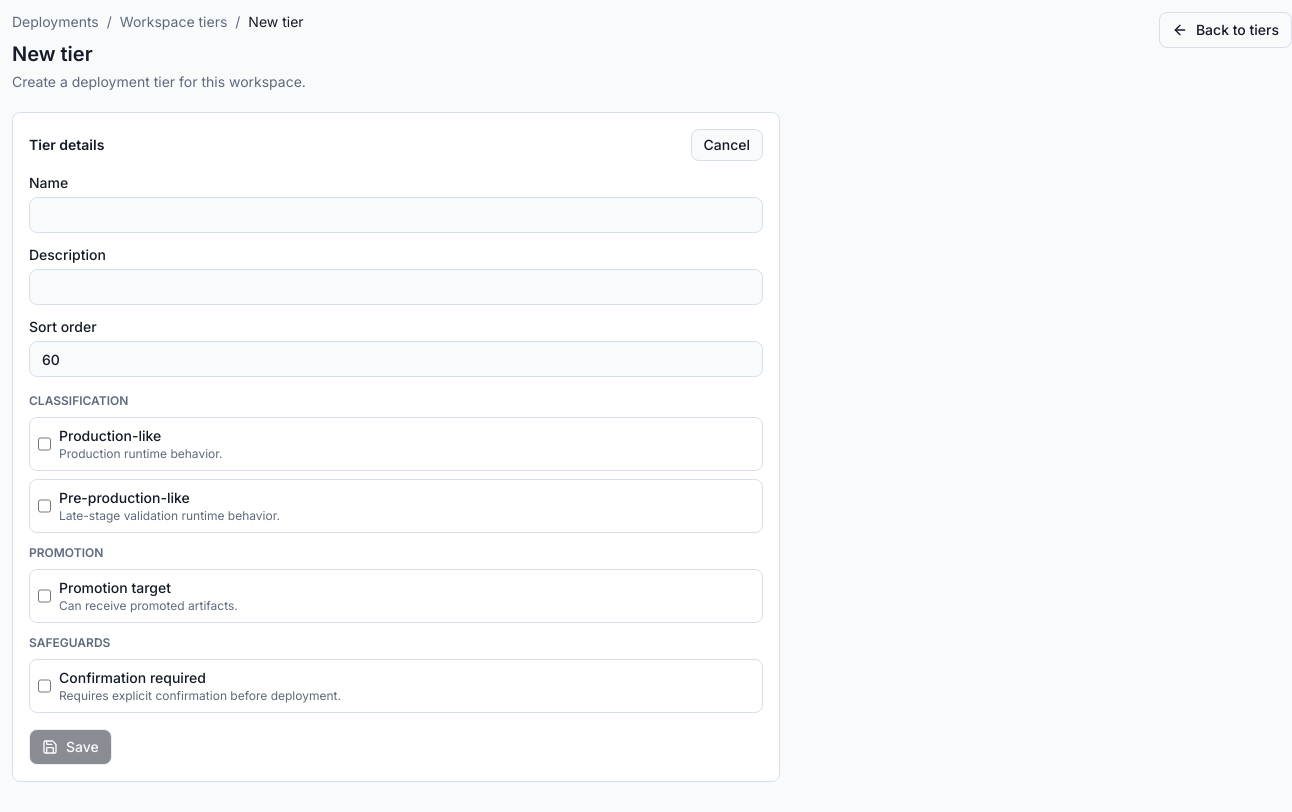
DeploymentTiersPanel › shows duplicate-name conflicts from Elsa Control
Expected: the heading "New tier" is shown, [12,42,93,66]
Type "Production Gate" into the field labelled "Name".
click(396, 215); type("Production Gate")  # box [29,197,763,233]
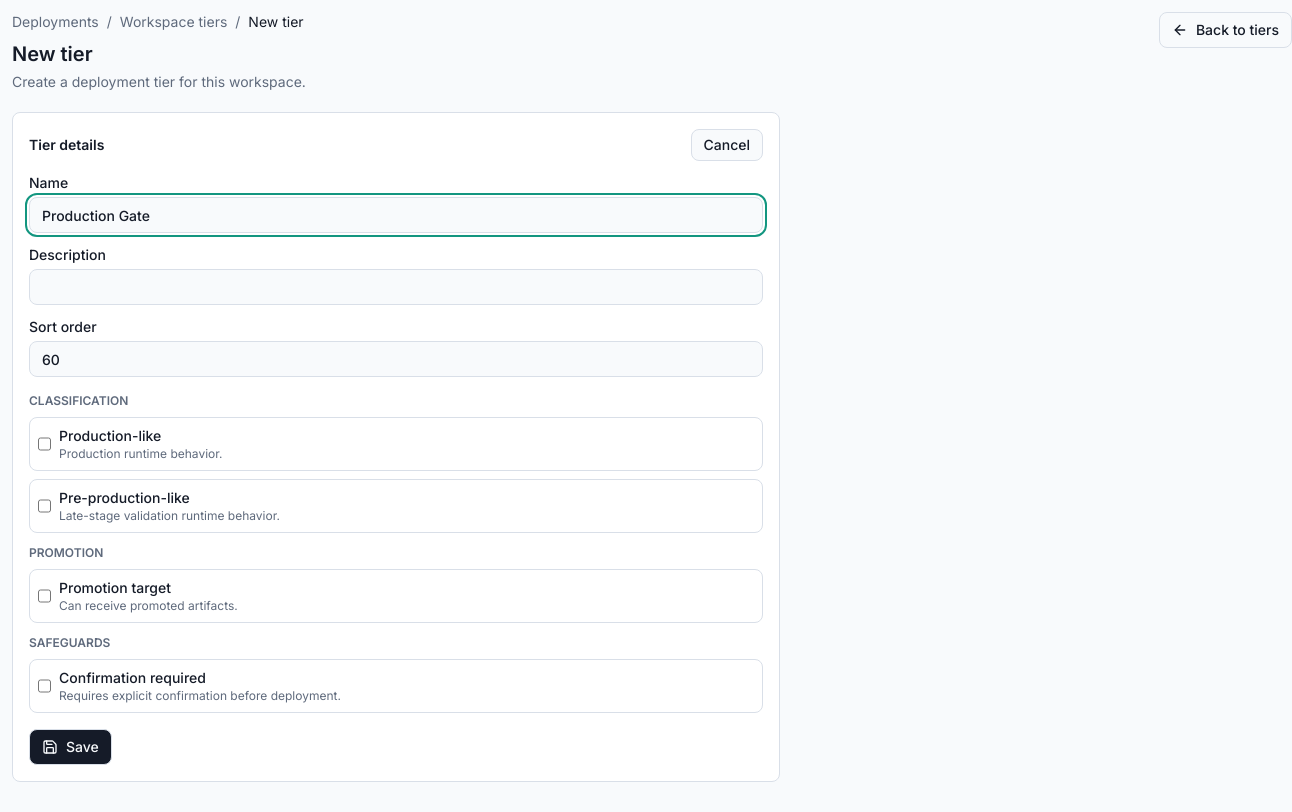
Click the checkbox labelled "Production-like Production runtime behavior.".
click(44, 444)  # box [38,426,51,462]
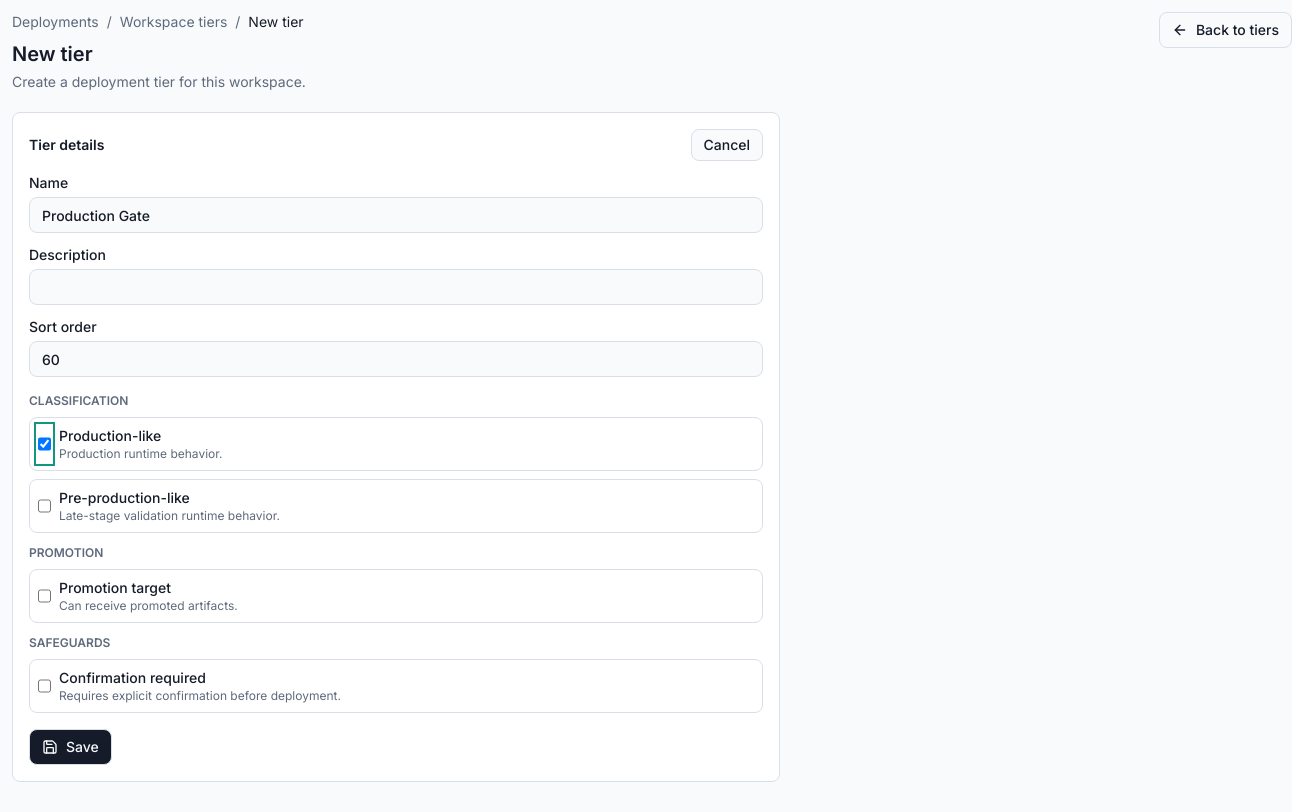
Click the button "Save".
click(70, 747)  # box [29,729,112,765]
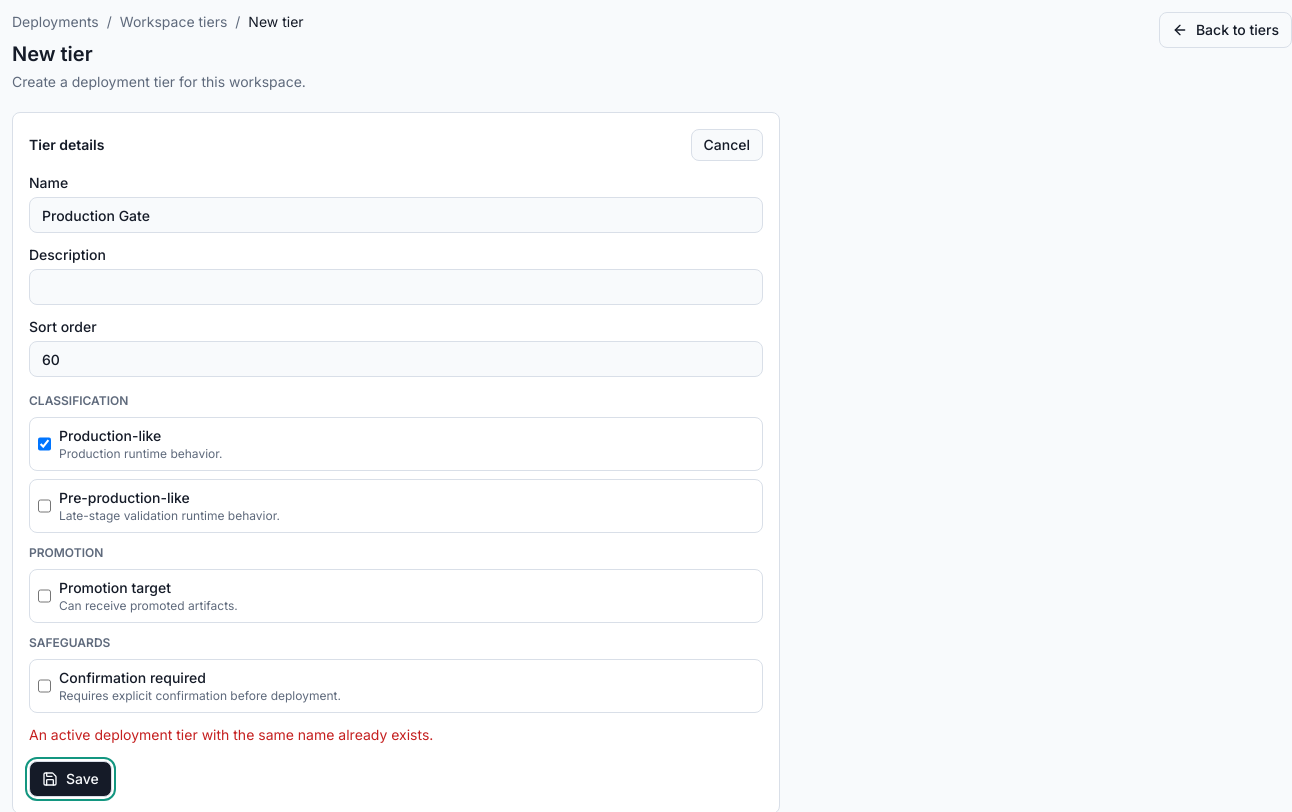
Result: the text "An active deployment tier with the same name already exists." is shown at [29,726,433,743]
